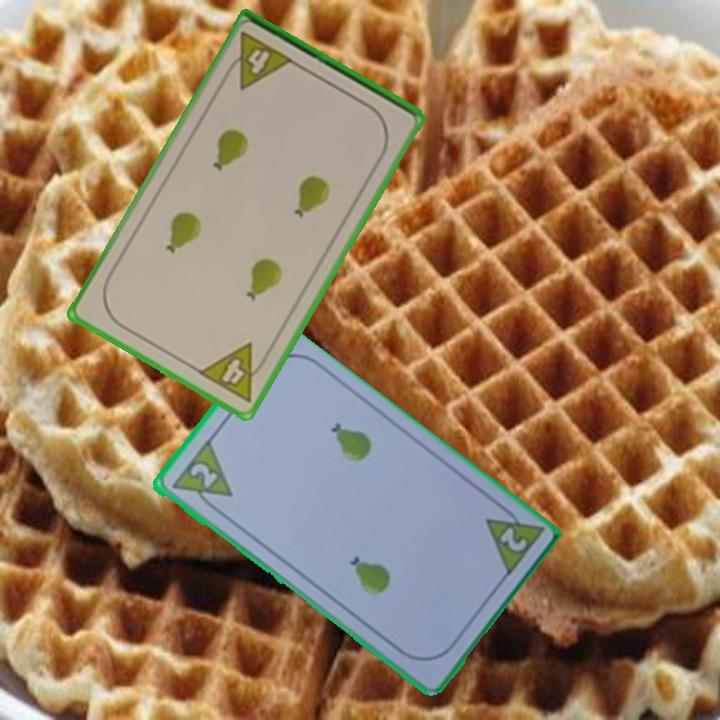2p: (480, 498, 546, 581), (166, 438, 235, 516)
4p: (194, 339, 273, 406), (220, 28, 297, 93)
